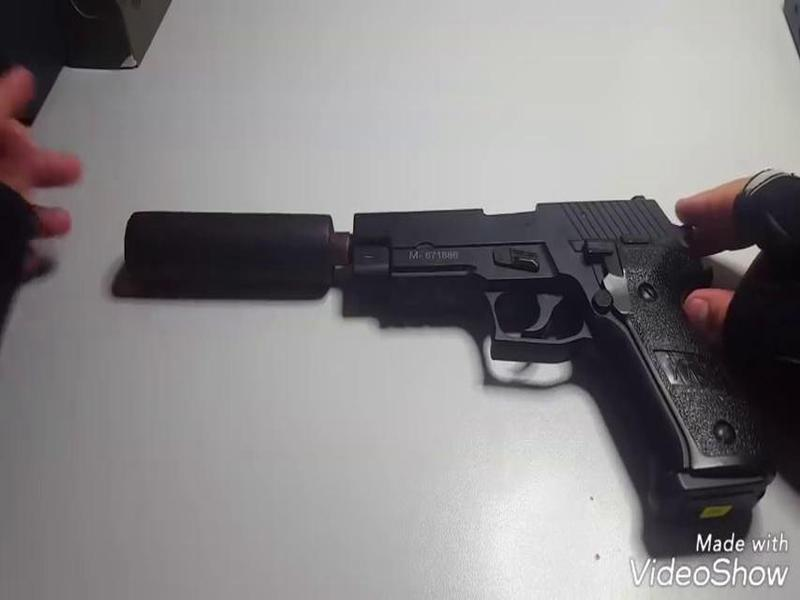Pistola: (339, 183, 799, 528)
